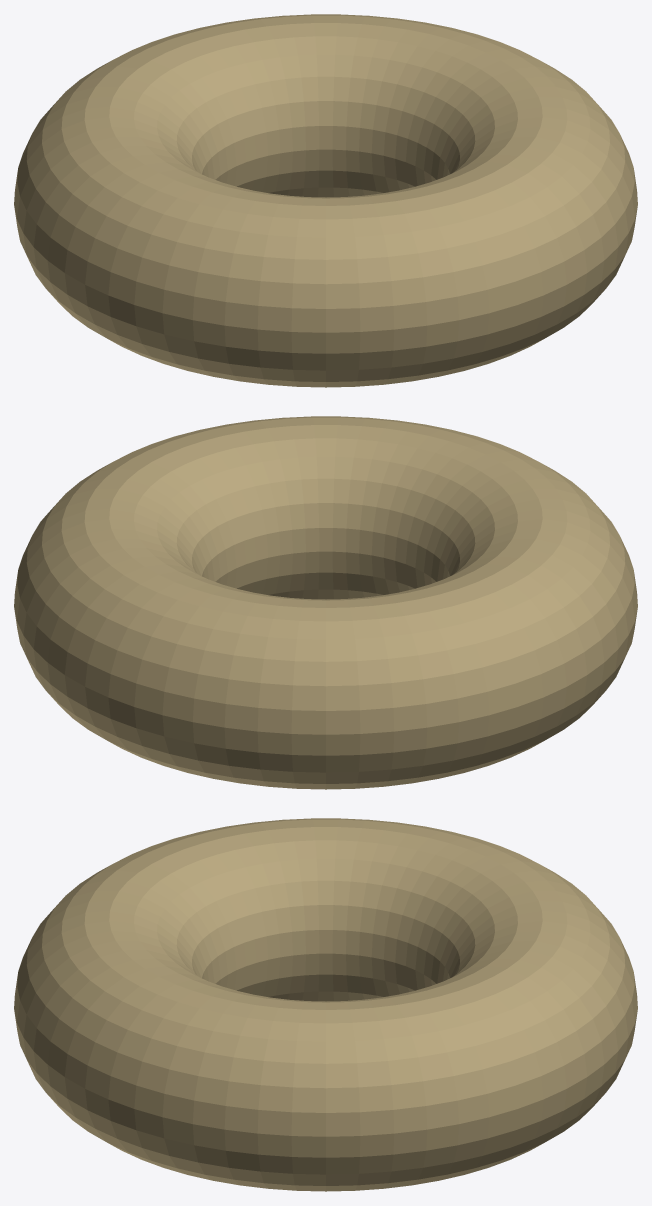
3 views of the same model, one above another, from view 1: azimuth 30°, elevation 25°; view 2: azimuth 150°, elevation 25°; view 3: azimuth 270°, elevation 25° (orthographic).
Visible parts, largest first — view 1: Torus.002; view 2: Torus.002; view 3: Torus.002.
Part boxes in pixels (bbox=[...]): Torus.002: bbox=[14, 14, 637, 387]; Torus.002: bbox=[14, 416, 637, 789]; Torus.002: bbox=[14, 818, 637, 1191].
Bounding box in the file's own units: 4.8 × 1.47 × 4.8.
